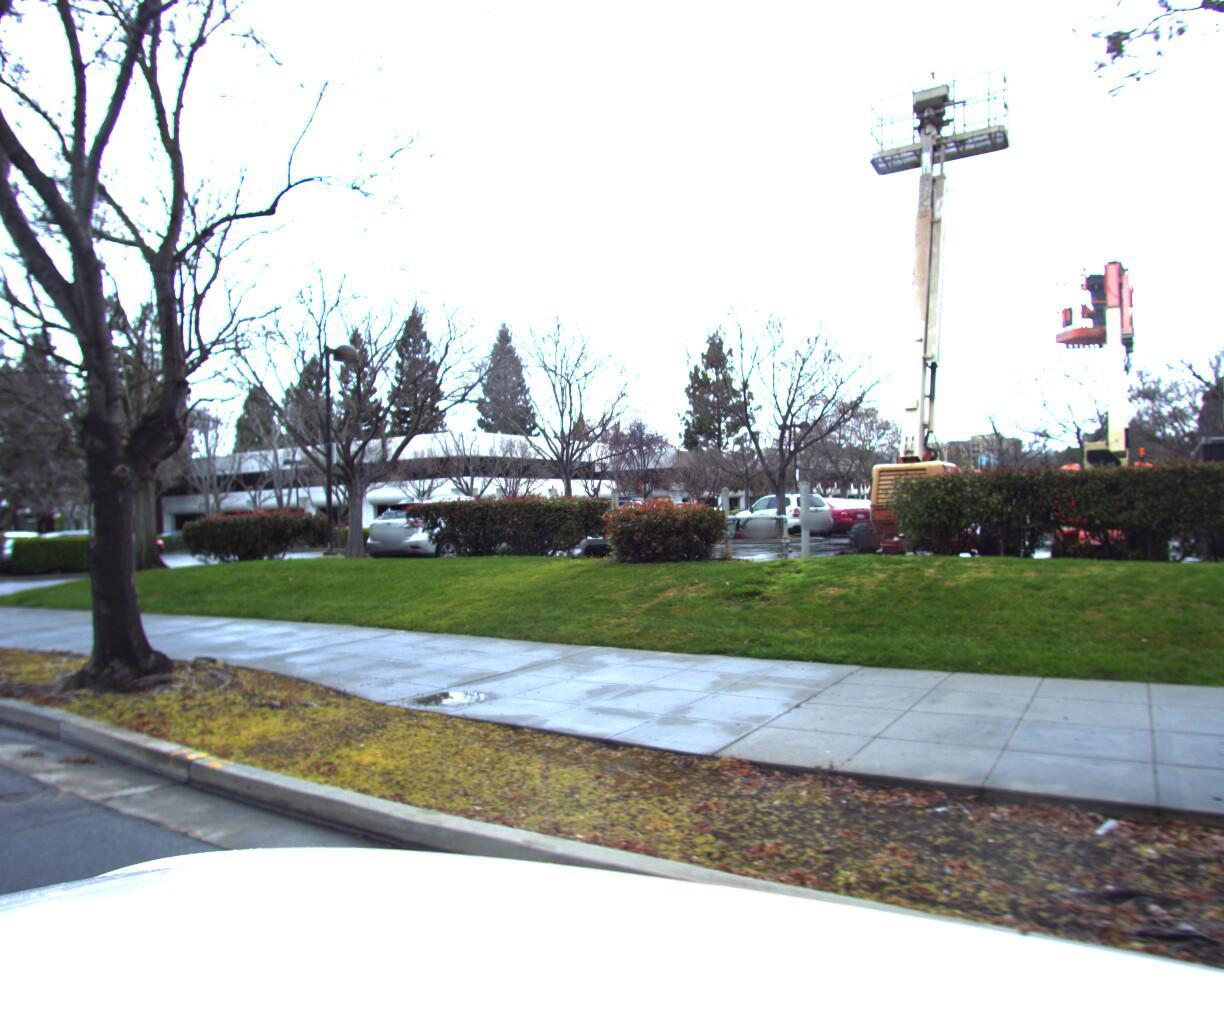car: (357, 495, 542, 579), (571, 494, 691, 547), (724, 490, 842, 539), (770, 495, 885, 541), (0, 519, 76, 569)
